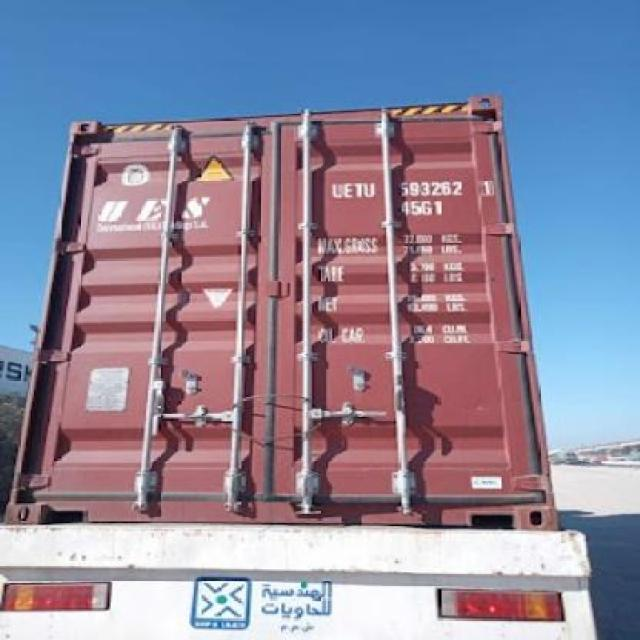ISO: (400, 201, 443, 217)
container_number: (338, 178, 499, 198)
